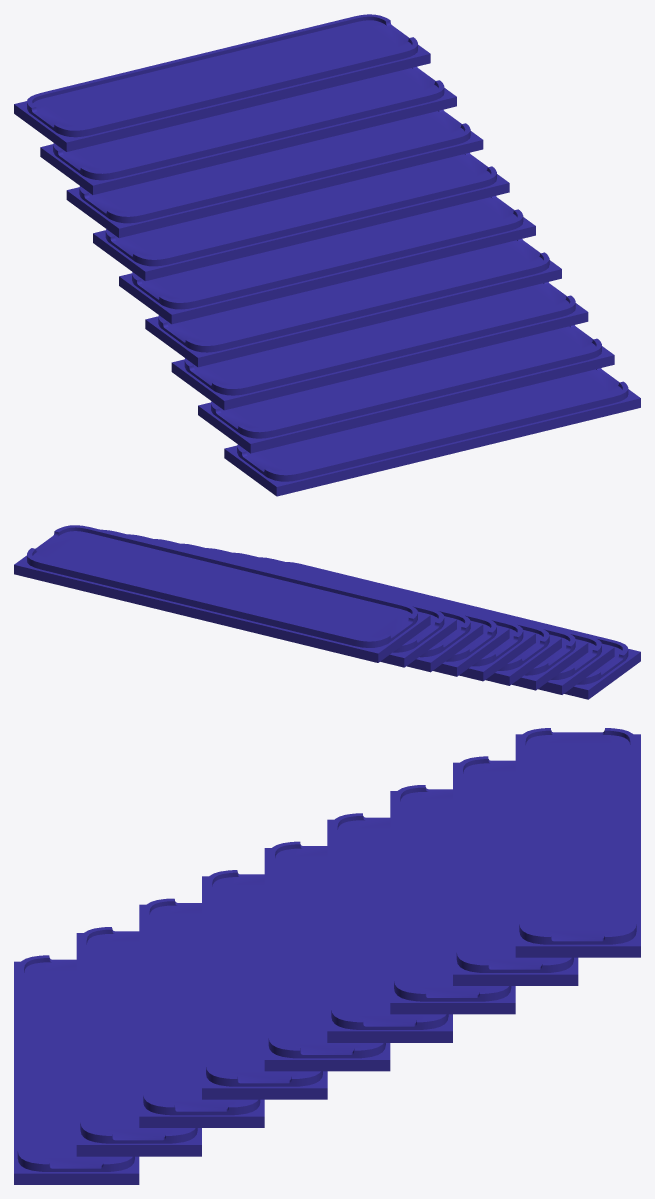
File: Stairs_Dbl.FBX
3 renders of one model, top to bottom at view 1: azimuth 30°, elevation 25°; view 2: azimuth 150°, elevation 25°; view 3: azimuth 270°, elevation 25°, orthographic. The views are drawn at different scales.
Visible parts, largest first — view 1: Stairs_Dbl; view 2: Stairs_Dbl; view 3: Stairs_Dbl.
Boxes of the visible parts, x1=… form: Stairs_Dbl: x1=14, y1=14, x2=640, y2=496; Stairs_Dbl: x1=14, y1=525, x2=640, y2=699; Stairs_Dbl: x1=14, y1=728, x2=640, y2=1184.
Size of the model in its own units: 400 by 217 by 500.
